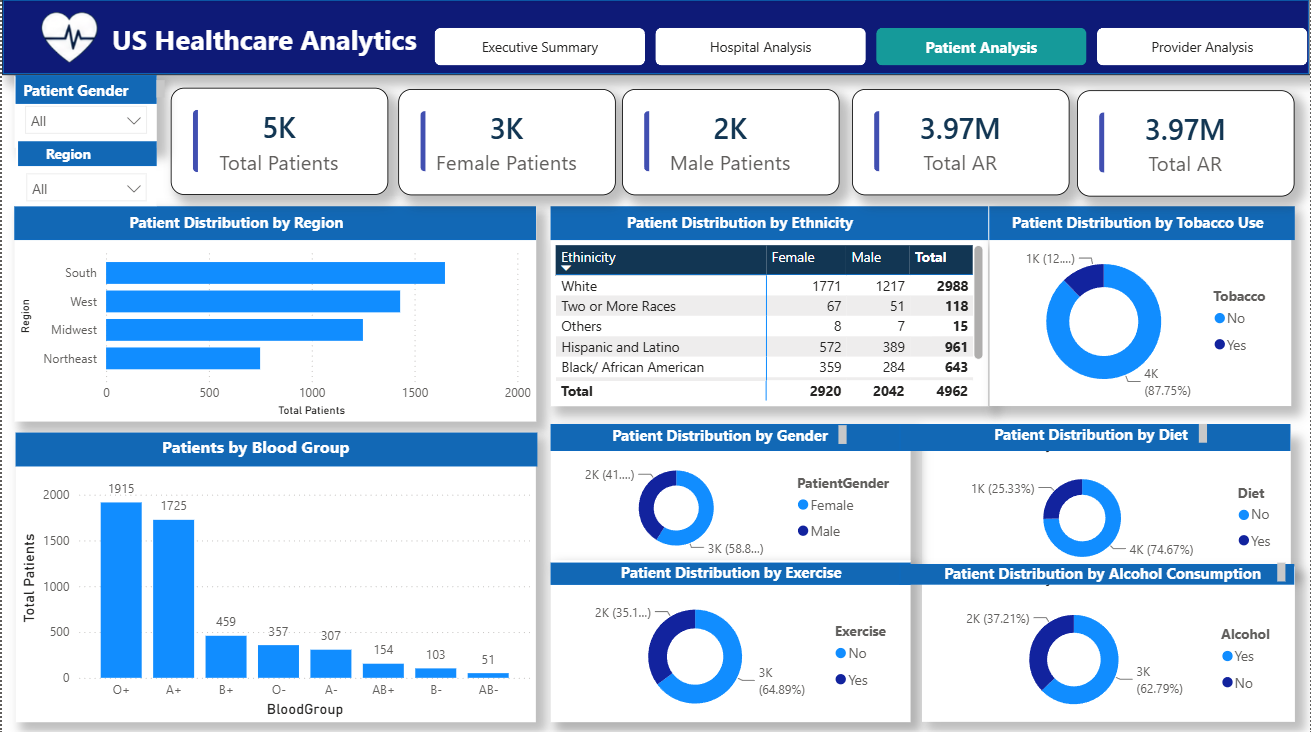

What the dashboard file says about the page in this screenshot:
{"tool":"powerbi","page":{"name":"Patient Analysis","canvas":[1280,720],"ordinal":2},"visuals":[{"type":"clusteredBarChart","fields":{"Y":["FactTable.Total Patients"],"Category":["DimPatient.Region"]},"box":[12.7,202.5,510.1,210.1],"z":0},{"type":"pivotTable","fields":{"Rows":["DimPatient.Ethinicity"],"Columns":["DimPatient.PatientGender"],"Values":["FactTable.Total Patients"]},"box":[536.7,235.4,427.8,162],"z":1000},{"type":"columnChart","fields":{"Category":["DimPatient.BloodGroup"],"Y":["FactTable.Total Patients"]},"box":[13.9,424.1,508.9,283.5],"z":2000},{"type":"donutChart","fields":{"Category":["DimPatient.Diet"],"Y":["FactTable.Total Patients"]},"box":[900,424.1,360.8,136.7],"z":3000},{"type":"donutChart","fields":{"Category":["DimPatient.PatientGender"],"Y":["FactTable.Total Patients"]},"box":[536.7,415.2,351.9,134.2],"z":4000},{"type":"donutChart","fields":{"Category":["DimPatient.Exercise"],"Y":["FactTable.Total Patients"]},"box":[536.7,549.4,351.9,158.2],"z":5000},{"type":"donutChart","fields":{"Category":["DimPatient.Alcohol"],"Y":["FactTable.Total Patients"]},"box":[900,555.7,364.6,151.9],"z":6000},{"type":"donutChart","fields":{"Category":["DimPatient.Tobacco"],"Y":["FactTable.Total Patients"]},"box":[965.8,202.5,294.9,194.9],"z":7000},{"type":"shape","box":[0,0,1279.7,74.7],"z":8000},{"type":"shape","box":[13.9,424.1,510.1,32.9],"z":9000},{"type":"textbox","box":[151.9,421.5,300,36.7],"z":10000},{"type":"shape","box":[12.7,202.5,510.1,32.9],"z":11000},{"type":"textbox","box":[120.3,202.5,300,32.9],"z":12000},{"type":"shape","box":[536.7,202.5,427.8,32.9],"z":13000},{"type":"textbox","box":[606.3,202.5,300,32.9],"z":14000},{"type":"shape","box":[536.7,415.2,351.9,26.6],"z":15000},{"type":"shape","box":[536.7,551.9,351.9,21.5],"z":16000},{"type":"shape","box":[878.5,415.2,382.3,26.6],"z":17000},{"type":"shape","box":[878.5,553.2,386.1,20.3],"z":18000},{"type":"shape","box":[965.8,202.5,298.7,32.9],"z":19000},{"type":"textbox","box":[983.5,202.5,277.2,35.4],"z":20000},{"type":"textbox","box":[592.4,412.7,239.2,29.1],"z":21000},{"type":"textbox","box":[965.8,411.4,217.7,29.1],"z":22000},{"type":"textbox","box":[600,545.6,300,35.4],"z":23000},{"type":"textbox","box":[917.7,546.8,343,29.1],"z":24000},{"type":"cardVisual","fields":{"Data":["FactTable.Total Patients"]},"box":[164.6,87.3,212.7,105.1],"z":25000},{"type":"cardVisual","fields":{"Data":["AdjustmentFactor(%).Female Patients"]},"box":[387.3,88.6,212.7,103.8],"z":26000},{"type":"cardVisual","fields":{"Data":["FactTable.Male Patients"]},"box":[606.3,88.6,212.7,103.8],"z":27000},{"type":"cardVisual","fields":{"Data":["AdjustmentFactor(%).Total AR"]},"box":[831.6,88.6,212.7,103.8],"z":28000},{"type":"cardVisual","fields":{"Data":["AdjustmentFactor(%).Total AR"]},"box":[1051.9,89.9,212.7,103.8],"z":29000},{"type":"slicer","fields":{"Values":["DimPatient.PatientGender"]},"box":[12.7,75.9,139.2,69.6],"z":30000},{"type":"shape","box":[13.9,74.7,138,27.8],"z":31000},{"type":"textbox","box":[16.5,74.7,148.1,27.8],"z":32000},{"type":"slicer","fields":{"Values":["DimPatient.Region"]},"box":[13.9,141.8,138,60.8],"z":33000},{"type":"shape","box":[16.5,139.2,135.4,24.1],"z":34000},{"type":"textbox","box":[38,136.7,300,30.4],"z":35000},{"type":"pageNavigator","box":[422.8,27.8,857,38],"z":36000},{"type":"textbox","box":[102.5,16.5,360.8,62],"z":37000},{"type":"image","box":[0,12.7,130.4,54.4],"z":38000}]}

Visuals, with their boxes in screenshot pixels (x1, y1, x2, y2), scaled from the page's 1280x720 canvas onto the 1311x732 screenshot:
clusteredBarChart - FactTable.Total Patients x DimPatient.Region: detection(13, 206, 535, 419)
pivotTable - DimPatient.Ethinicity x DimPatient.PatientGender: detection(550, 239, 988, 404)
columnChart - DimPatient.BloodGroup x FactTable.Total Patients: detection(14, 431, 535, 719)
donutChart - DimPatient.Diet x FactTable.Total Patients: detection(922, 431, 1291, 570)
donutChart - DimPatient.PatientGender x FactTable.Total Patients: detection(550, 422, 910, 559)
donutChart - DimPatient.Exercise x FactTable.Total Patients: detection(550, 559, 910, 719)
donutChart - DimPatient.Alcohol x FactTable.Total Patients: detection(922, 565, 1295, 719)
donutChart - DimPatient.Tobacco x FactTable.Total Patients: detection(989, 206, 1291, 404)
shape: detection(0, 0, 1310, 76)
shape: detection(14, 431, 537, 465)
textbox: detection(156, 429, 463, 466)
shape: detection(13, 206, 535, 239)
textbox: detection(123, 206, 430, 239)
shape: detection(550, 206, 988, 239)
textbox: detection(621, 206, 928, 239)
shape: detection(550, 422, 910, 449)
shape: detection(550, 561, 910, 583)
shape: detection(900, 422, 1291, 449)
shape: detection(900, 562, 1295, 583)
shape: detection(989, 206, 1295, 239)
textbox: detection(1007, 206, 1291, 242)
textbox: detection(607, 420, 852, 449)
textbox: detection(989, 418, 1212, 448)
textbox: detection(615, 555, 922, 591)
textbox: detection(940, 556, 1291, 585)
cardVisual - FactTable.Total Patients: detection(169, 89, 386, 196)
cardVisual - AdjustmentFactor(%).Female Patients: detection(397, 90, 615, 196)
cardVisual - FactTable.Male Patients: detection(621, 90, 839, 196)
cardVisual - AdjustmentFactor(%).Total AR: detection(852, 90, 1070, 196)
cardVisual - AdjustmentFactor(%).Total AR: detection(1077, 91, 1295, 197)
slicer - DimPatient.PatientGender: detection(13, 77, 156, 148)
shape: detection(14, 76, 156, 104)
textbox: detection(17, 76, 169, 104)
slicer - DimPatient.Region: detection(14, 144, 156, 206)
shape: detection(17, 142, 156, 166)
textbox: detection(39, 139, 346, 170)
pageNavigator: detection(433, 28, 1310, 67)
textbox: detection(105, 17, 475, 80)
image: detection(0, 13, 134, 68)
